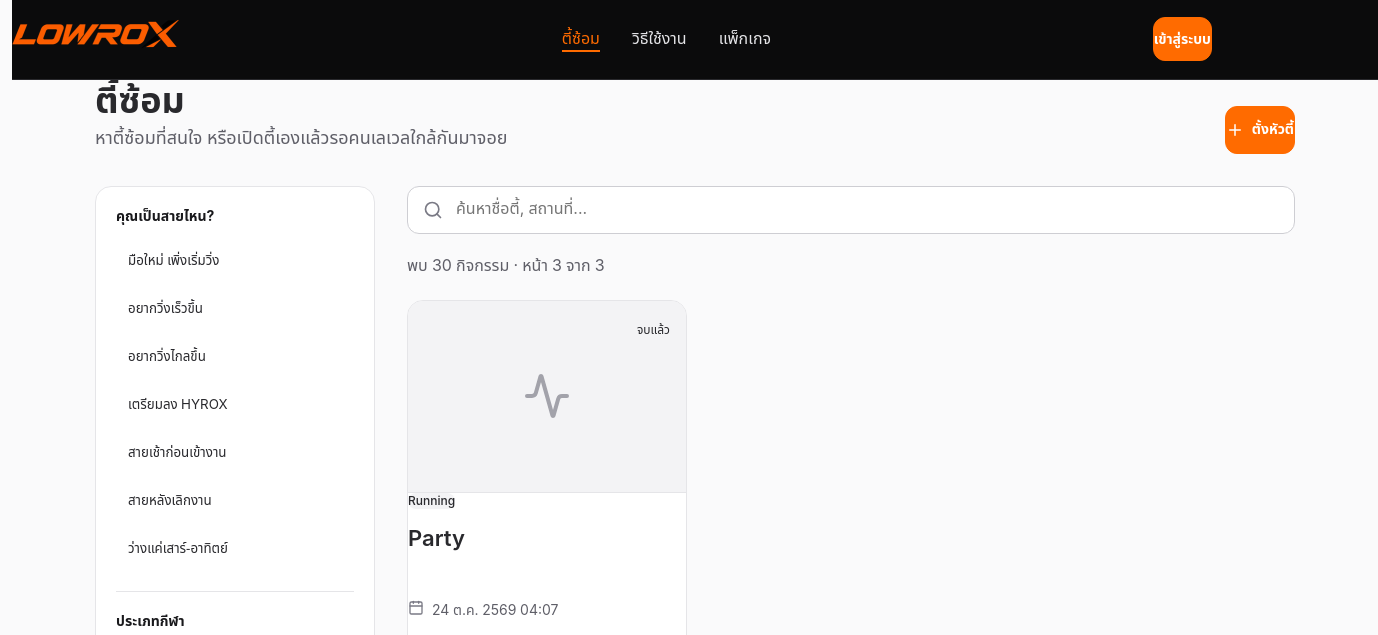
Scenario: EventList Page › filters by persona and goes back to page 1
Expected: the link "Party" is shown, [408,525,465,556]
Click the button "เตรียมลง HYROX": coordinates (235, 405) [116,383,354,427]
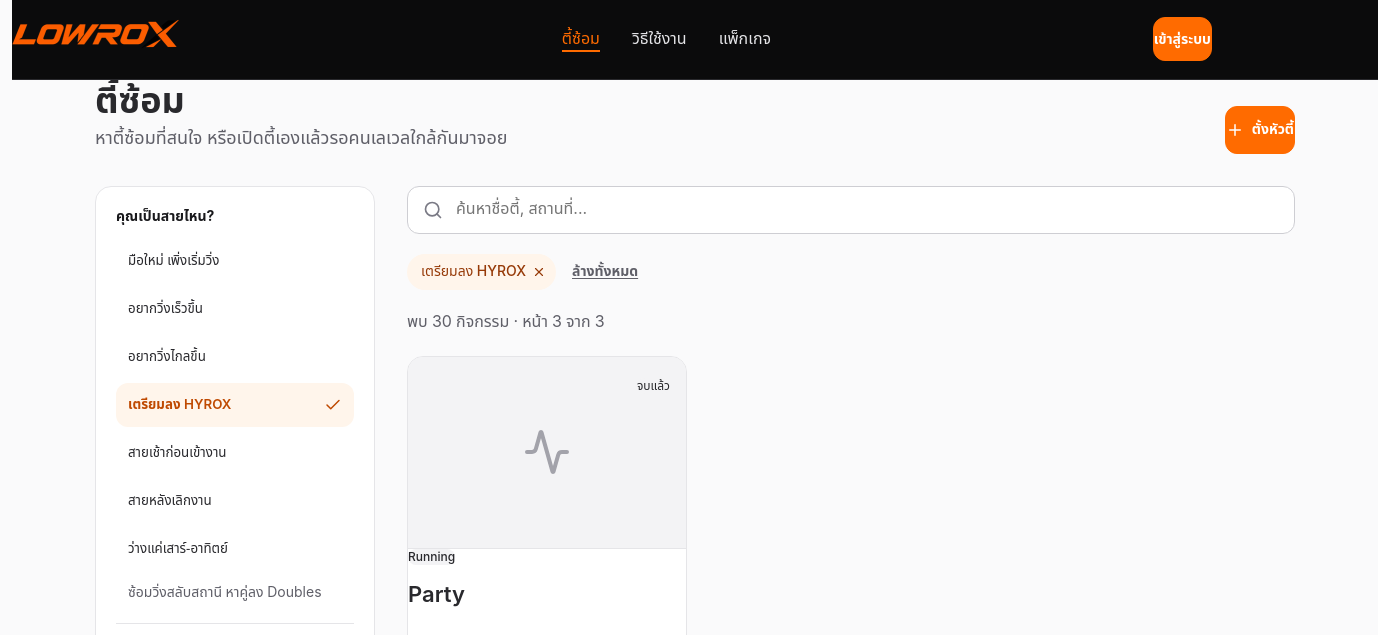
Expected: the text "ซ้อมวิ่งสลับสถานี หาคู่ลง Doubles" is shown, [128,582,322,603]
